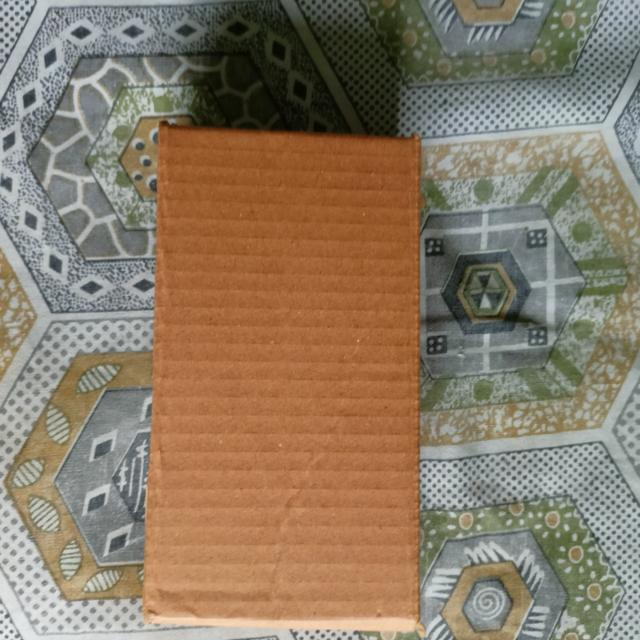box: (148, 127, 424, 623)
